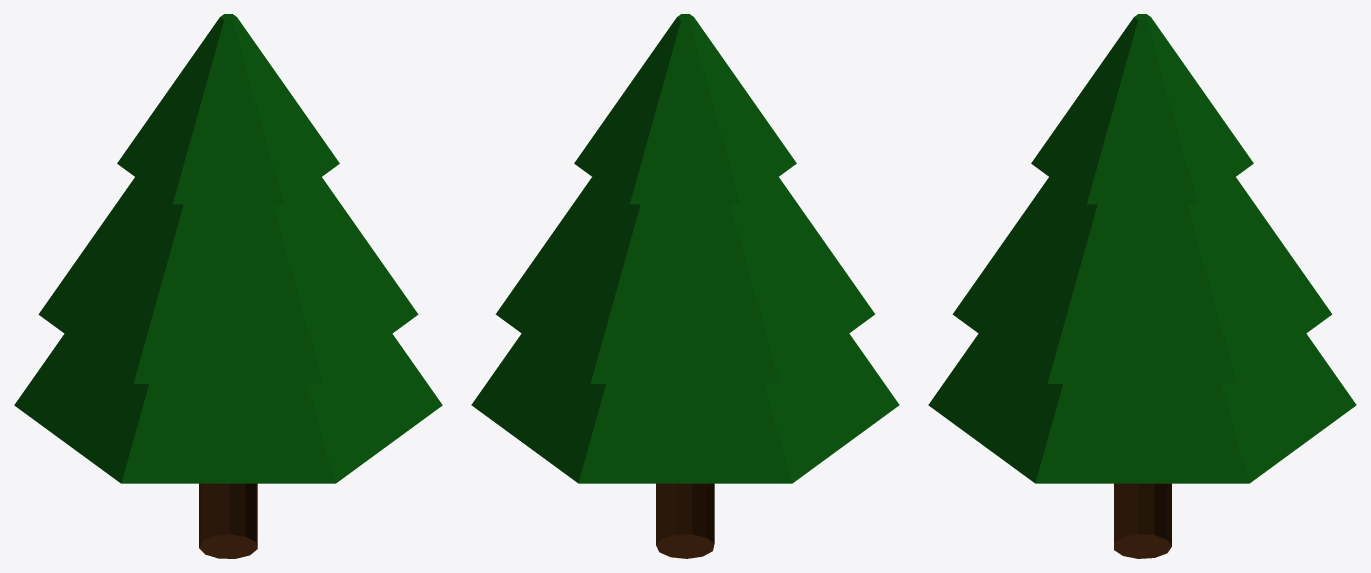
File: Tree1.fbx
3 renders of one model, left to right at view 1: azimuth 30°, elevation 25°; view 2: azimuth 150°, elevation 25°; view 3: azimuth 270°, elevation 25°, orthographic.
Visible parts, largest first — view 1: Cylinder.003; view 2: Cylinder.003; view 3: Cylinder.003.
Part boxes in pixels (left/top/right/bottom): Cylinder.003: left=14, top=14, right=442, bottom=558; Cylinder.003: left=471, top=14, right=899, bottom=558; Cylinder.003: left=928, top=14, right=1356, bottom=558.
Bounding box in the file's own units: 1044 × 1643 × 1205.
